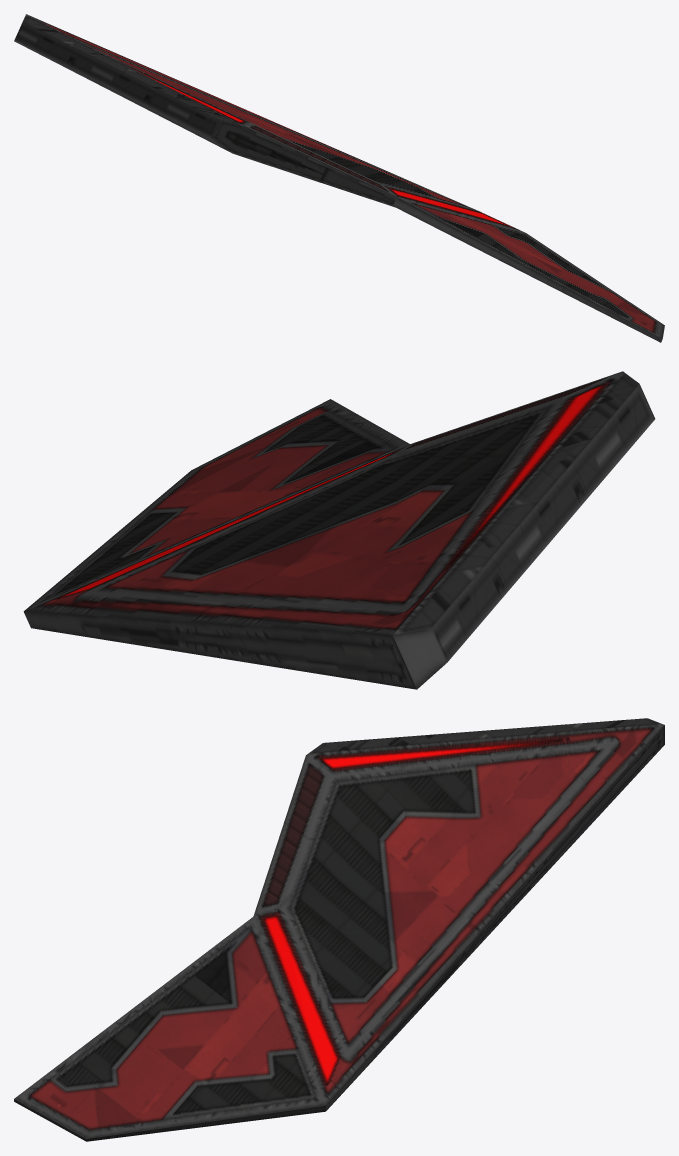
File: BFP_LargeWing_Left.FBX
The picture shows the model from 3 angles, top to bottom: view 1: azimuth 30°, elevation 25°; view 2: azimuth 150°, elevation 25°; view 3: azimuth 270°, elevation 25°; orthographic projection. The views are drawn at different scales.
Visible parts, largest first — view 1: BFP_LargeWing_Left; view 2: BFP_LargeWing_Left; view 3: BFP_LargeWing_Left.
Boxes of the visible parts, bbox=[...] form: BFP_LargeWing_Left: bbox=[14, 14, 664, 342]; BFP_LargeWing_Left: bbox=[23, 371, 655, 689]; BFP_LargeWing_Left: bbox=[14, 718, 664, 1141].
Bounding box in the file's own units: 429 × 220 × 579.
Materials: 1 (1 with a texture image).
